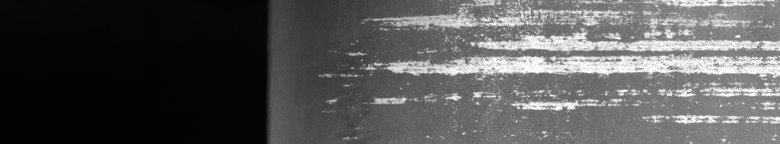kb: (318, 4, 776, 136)
